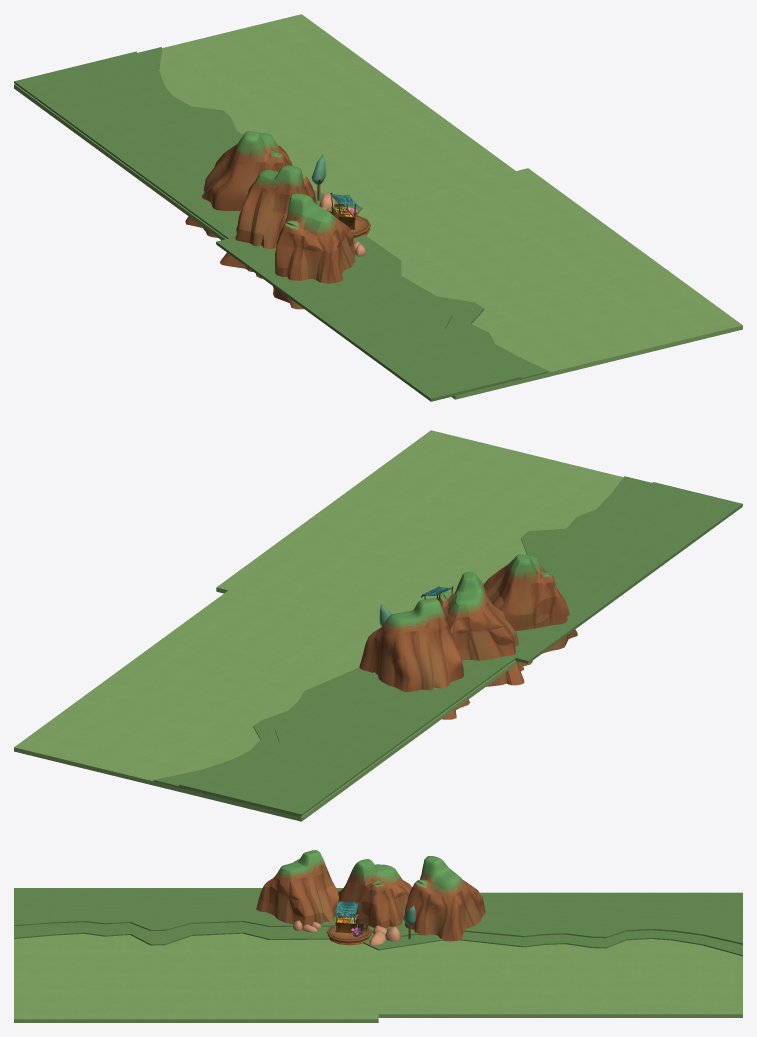
File: closer_up_veggie_stand.FBX
3 views of the same model, one above another, from view 1: azimuth 30°, elevation 25°; view 2: azimuth 150°, elevation 25°; view 3: azimuth 270°, elevation 25° (orthographic). The views are drawn at different scales.
Parts seen in each view (by area): view 1: pavement, pavement009, pavement008, pavement003, cliff004, pavement002, cliff013, cliff014, pavement007; view 2: pavement, pavement009, pavement008, pavement003, cliff014, cliff013, cliff004, pavement007, pavement002; view 3: pavement, pavement009, pavement008, pavement003, cliff014, cliff004, pavement002, pavement007, cliff013, veggie_stand, Cylinder005.
Part boxes in pixels (x1=…): pavement: x1=357, y1=168, x2=742, y2=399; pavement009: x1=14, y1=14, x2=515, y2=240; pavement008: x1=14, y1=51, x2=319, y2=238; pavement003: x1=216, y1=237, x2=520, y2=400; cliff004: x1=273, y1=193, x2=355, y2=309; pavement002: x1=216, y1=208, x2=549, y2=401; cliff013: x1=220, y1=165, x2=316, y2=278; cliff014: x1=185, y1=131, x2=292, y2=237; pavement007: x1=15, y1=47, x2=362, y2=237; pavement: x1=216, y1=430, x2=623, y2=627; pavement009: x1=14, y1=590, x2=516, y2=821; pavement008: x1=179, y1=655, x2=516, y2=816; pavement003: x1=511, y1=482, x2=742, y2=662; cliff014: x1=359, y1=598, x2=469, y2=719; cliff013: x1=437, y1=571, x2=532, y2=686; cliff004: x1=483, y1=554, x2=577, y2=653; pavement007: x1=153, y1=660, x2=514, y2=816; pavement002: x1=482, y1=476, x2=742, y2=663; pavement: x1=14, y1=933, x2=378, y2=1022; pavement009: x1=378, y1=939, x2=742, y2=1017; pavement008: x1=385, y1=892, x2=742, y2=944; pavement003: x1=14, y1=888, x2=374, y2=932; cliff014: x1=405, y1=856, x2=485, y2=941; cliff004: x1=256, y1=850, x2=338, y2=926; pavement002: x1=14, y1=922, x2=378, y2=950; pavement007: x1=378, y1=930, x2=742, y2=956; cliff013: x1=338, y1=859, x2=412, y2=928; veggie_stand: x1=335, y1=901, x2=368, y2=934; Cylinder005: x1=327, y1=923, x2=372, y2=945.
Size of the model in its own units: 1591 by 452 by 3790.
